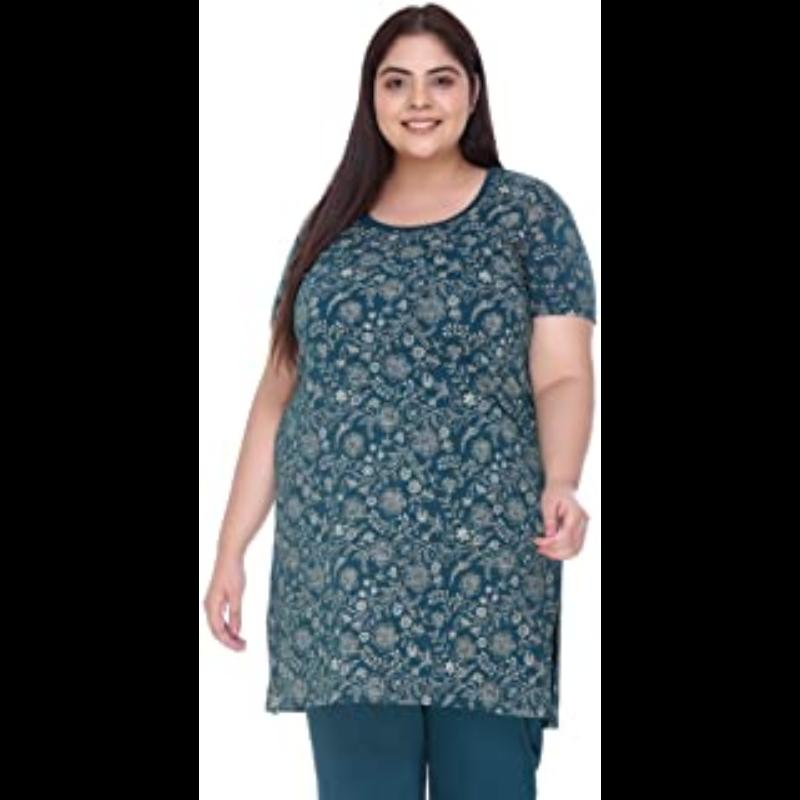Kurta: (259, 188, 576, 712)
